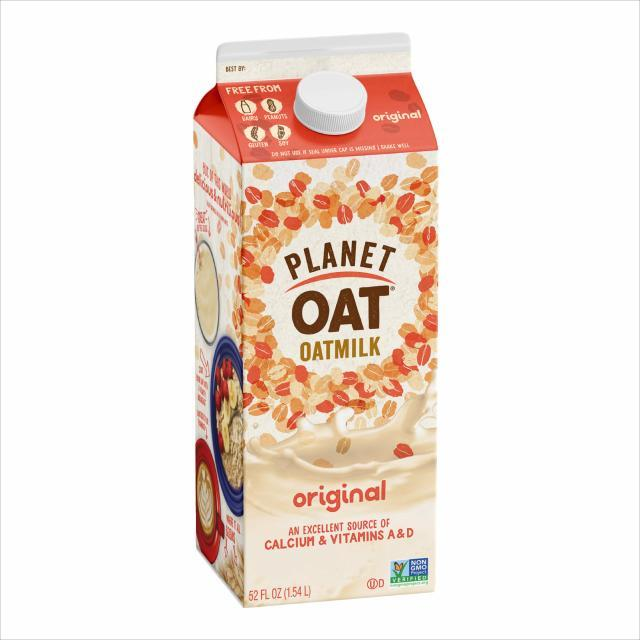Planet Oat Original: (184, 24, 453, 612)
